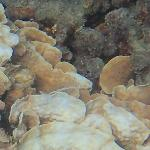dead: (4, 4, 146, 145)
